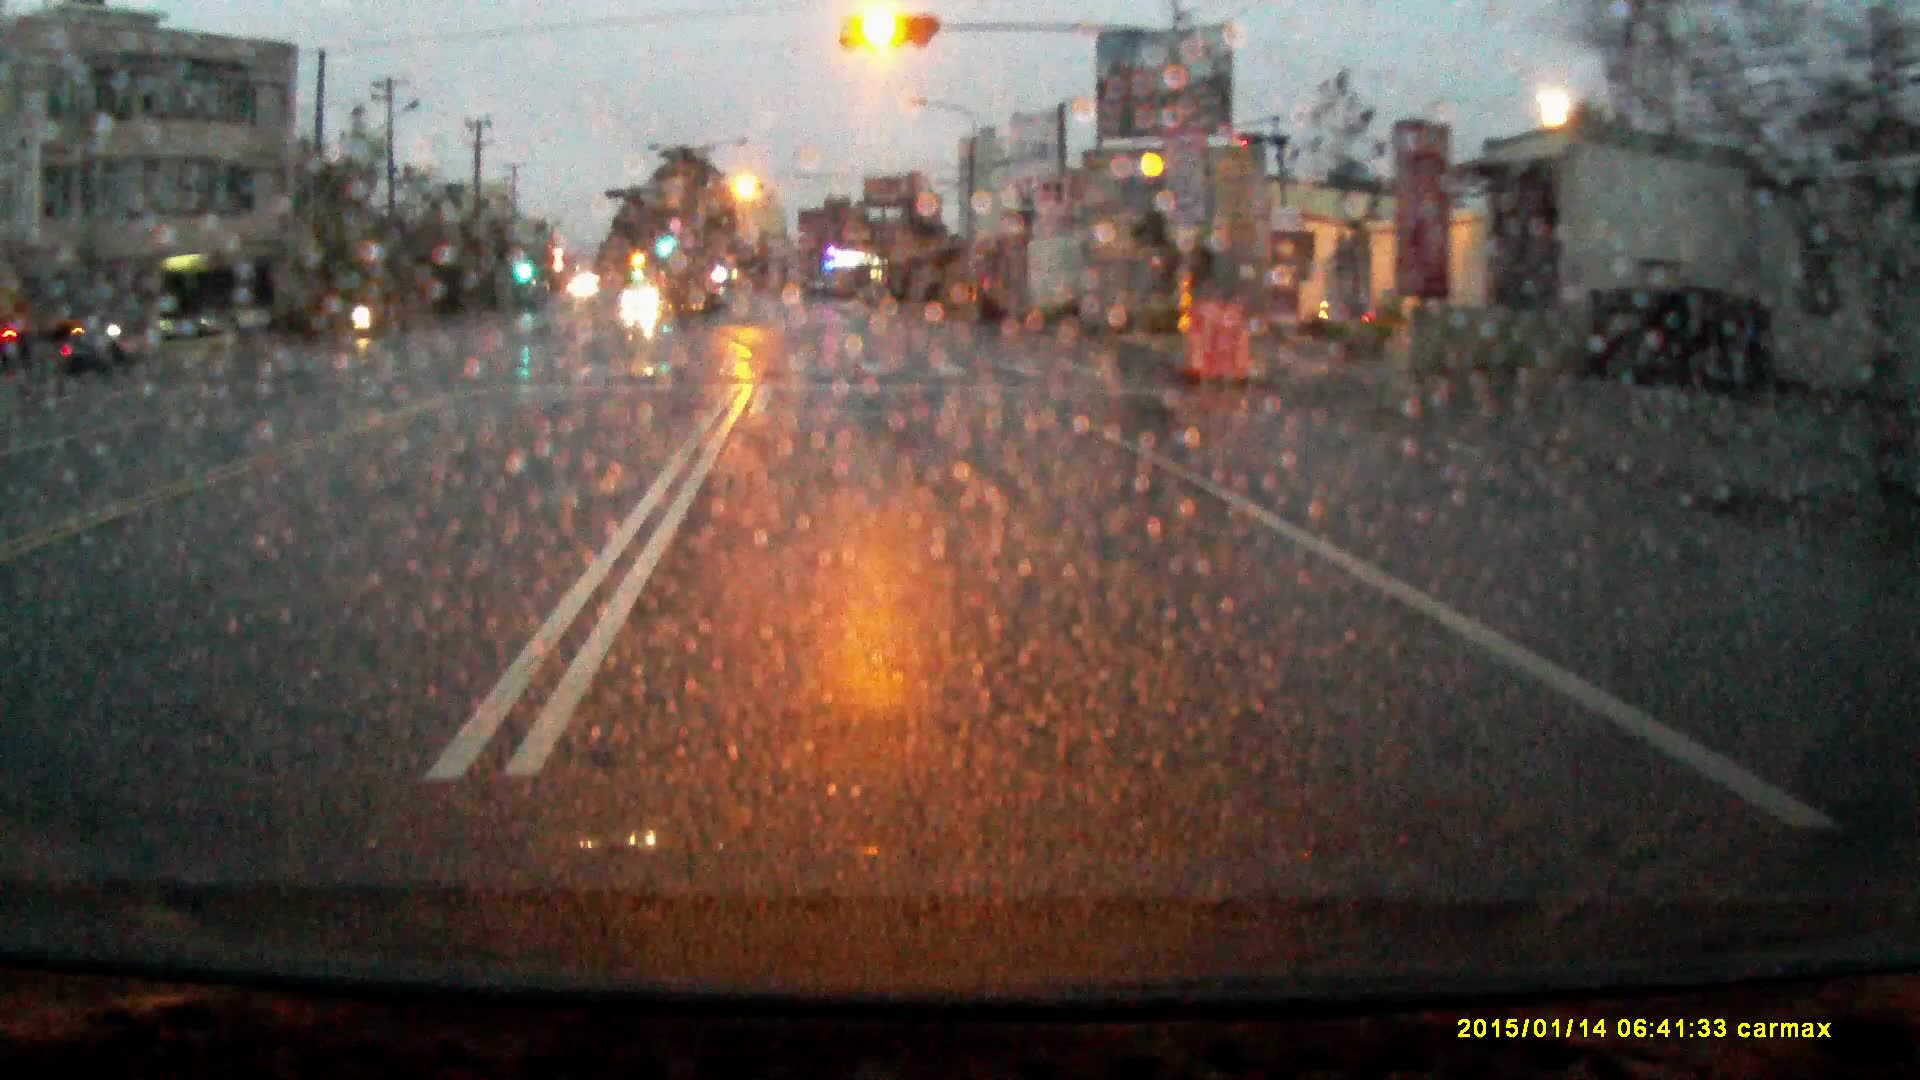rider: (349, 277, 376, 335)
vehicle: (621, 285, 662, 312)
